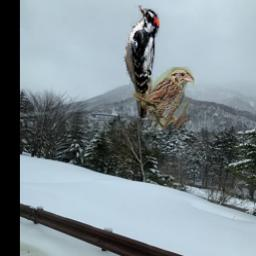Sparrow: (130, 68, 194, 131)
Woodpecker: (124, 5, 159, 118)
